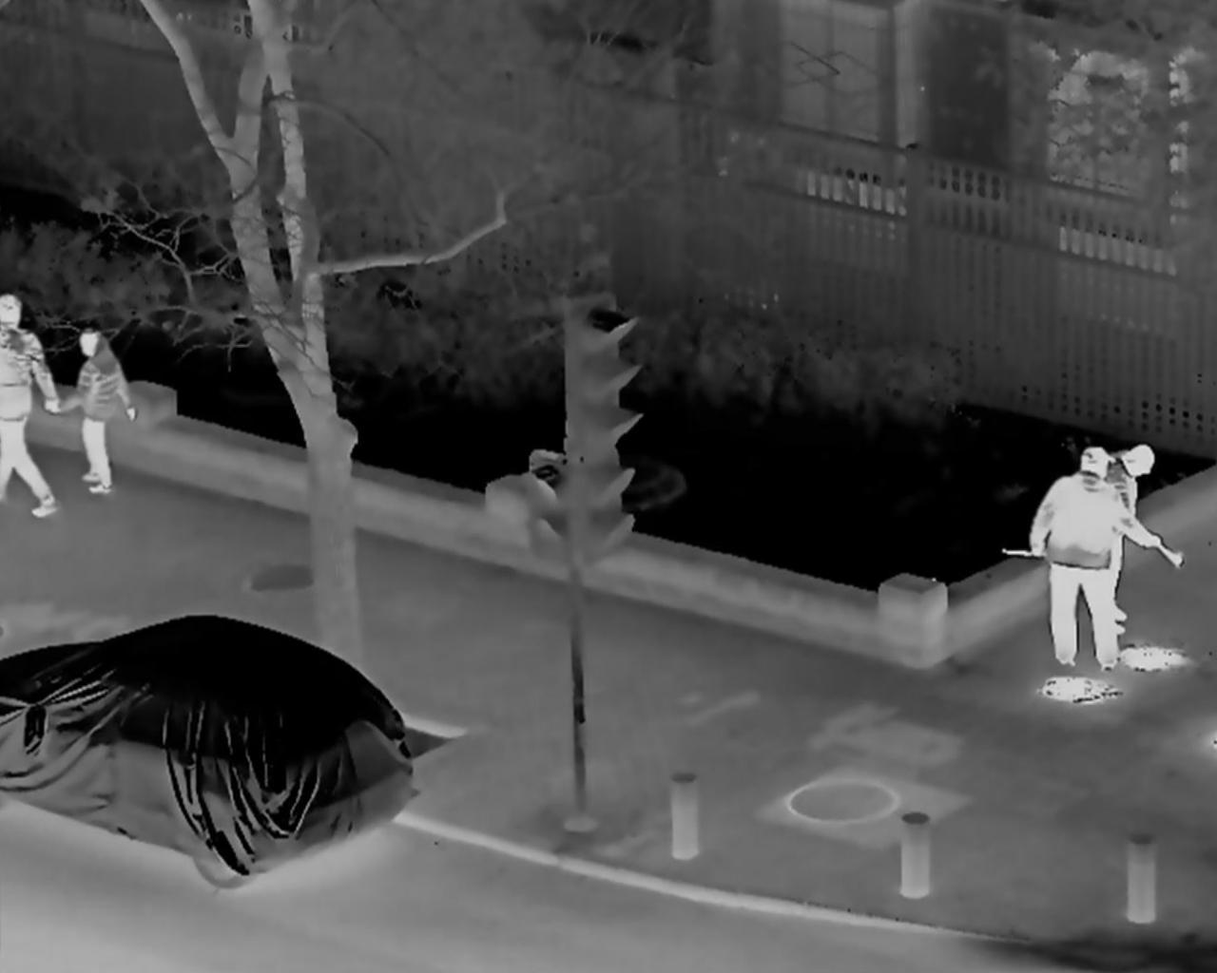person: (1027, 449, 1154, 670), (1080, 445, 1159, 631), (54, 328, 136, 499)
